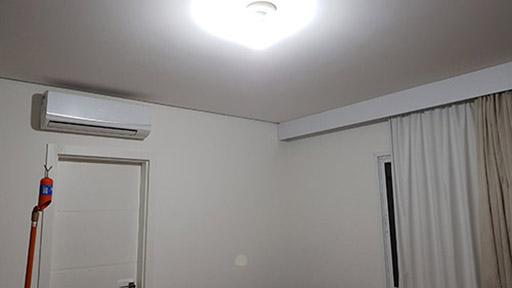Detector_Tensao_Contato: (37, 164, 54, 214)
